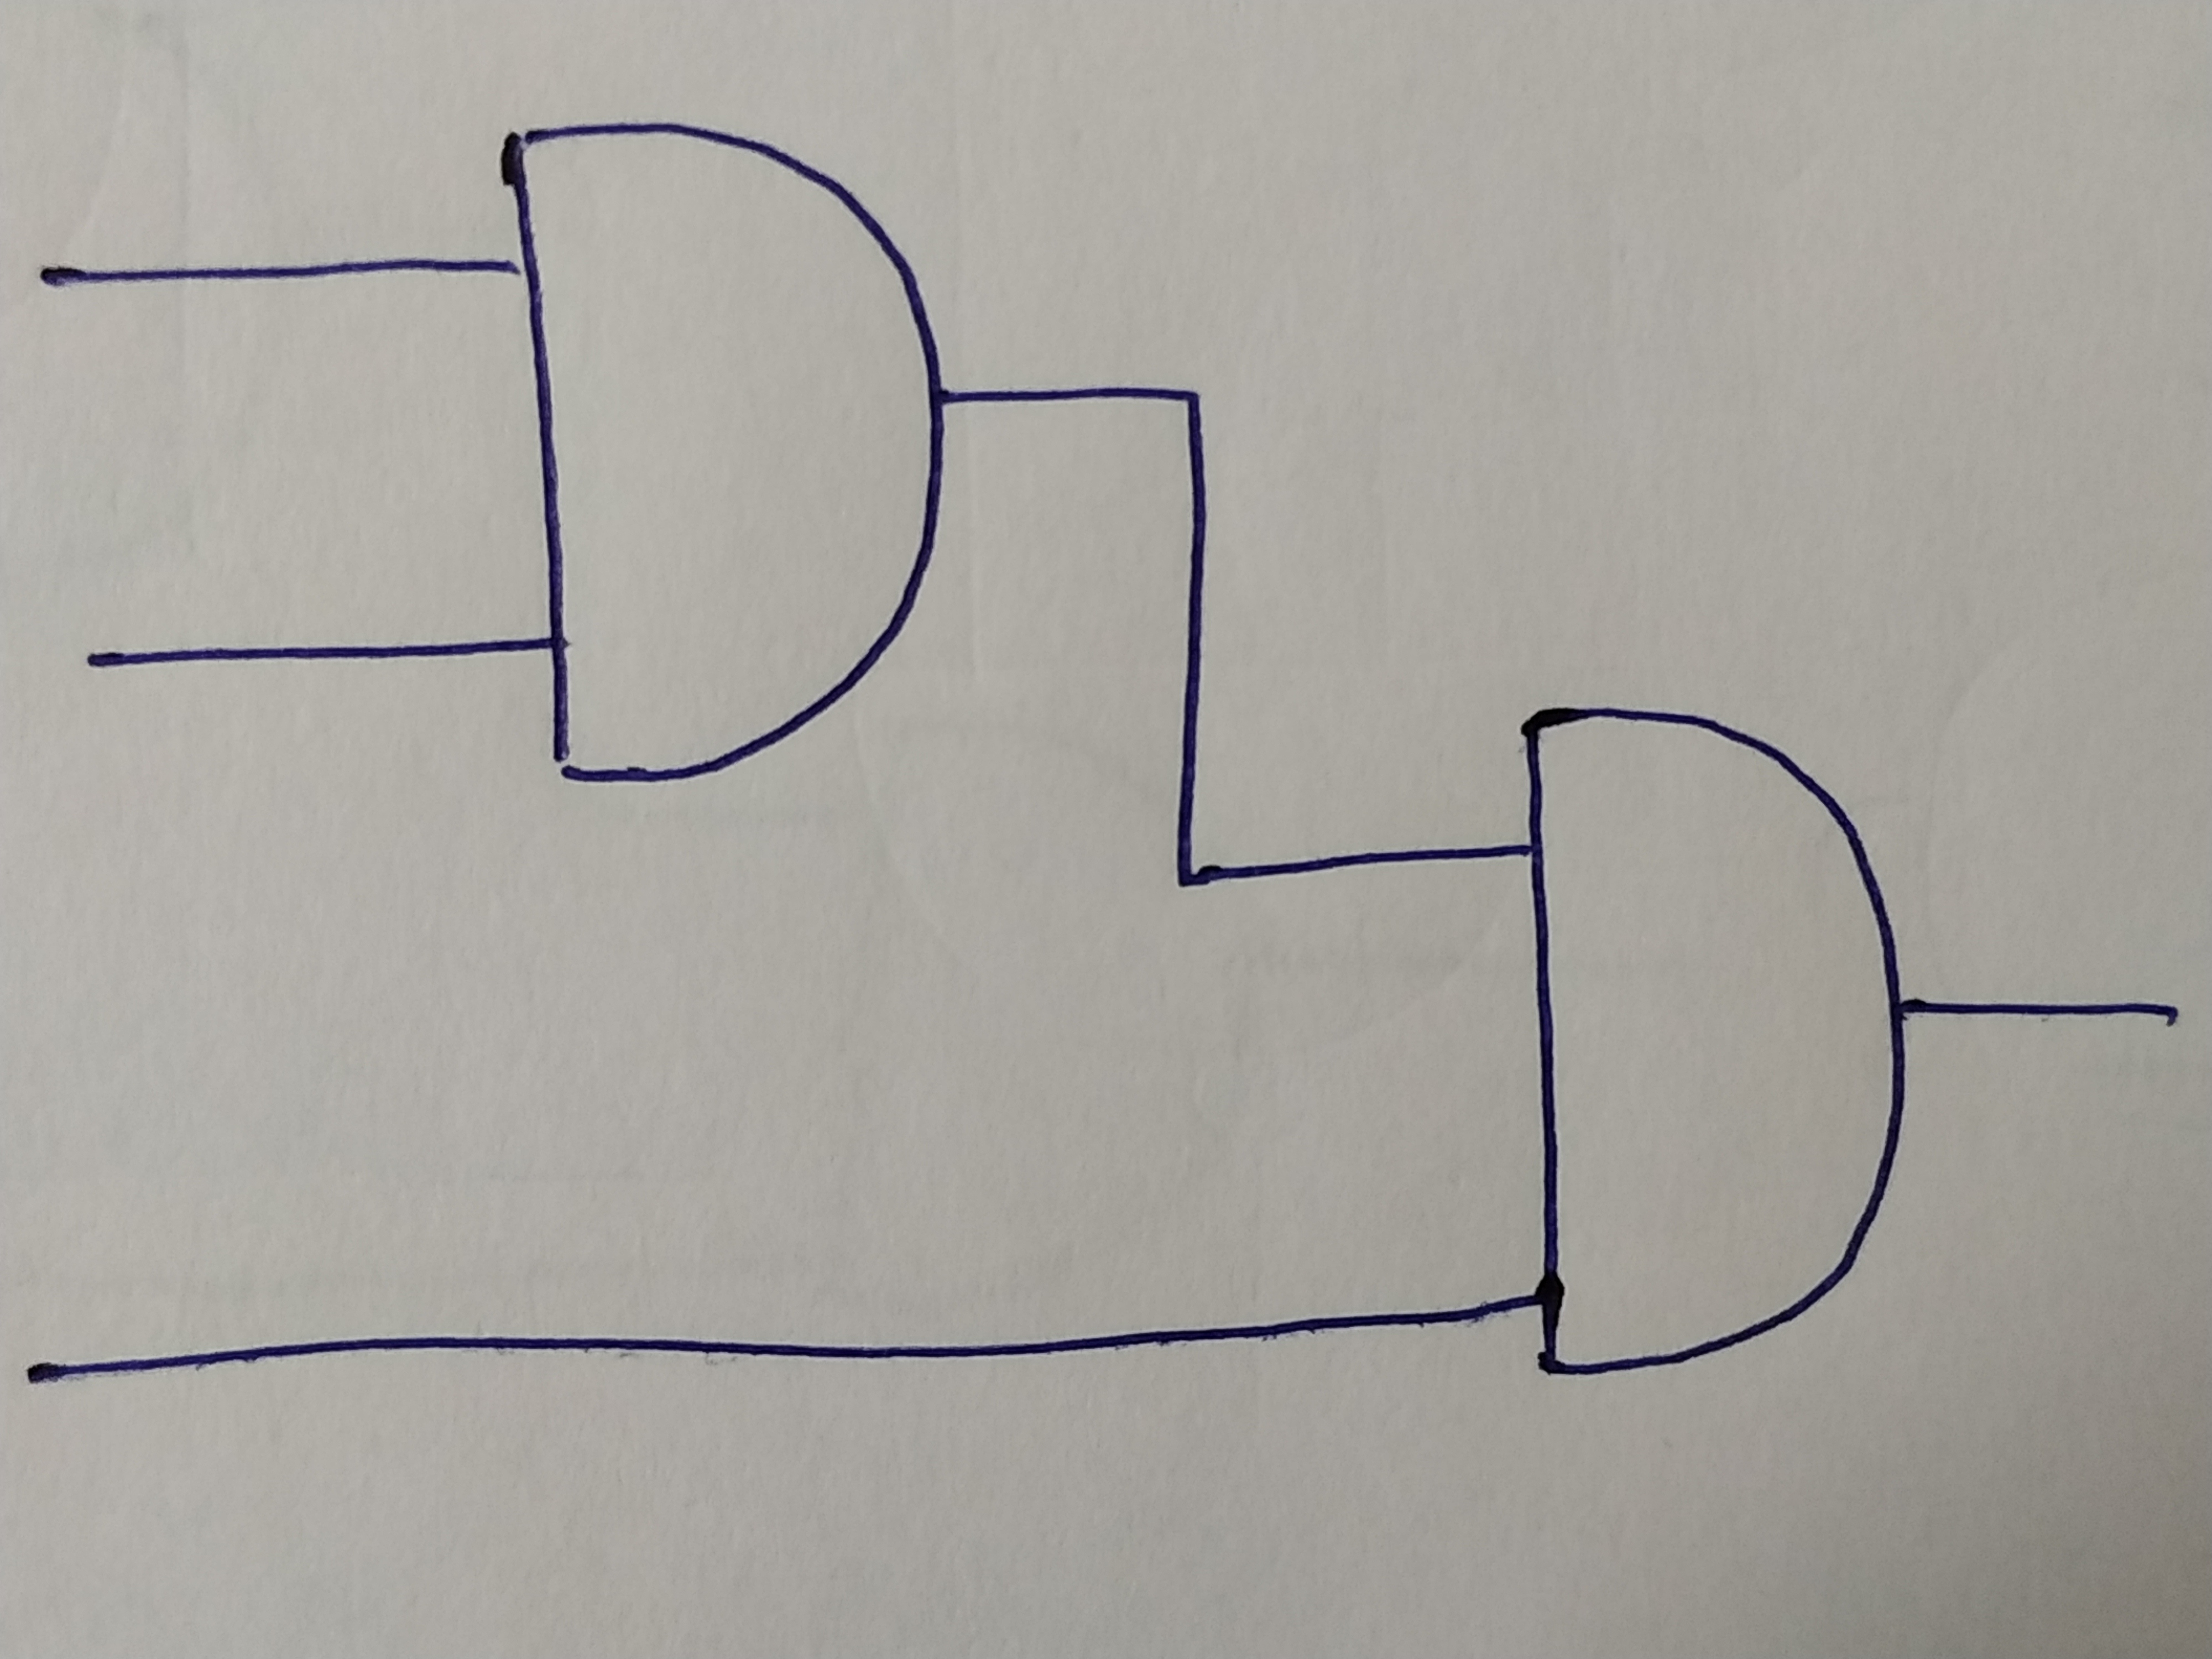and: (496, 122, 944, 781), (1519, 711, 1900, 1375)
